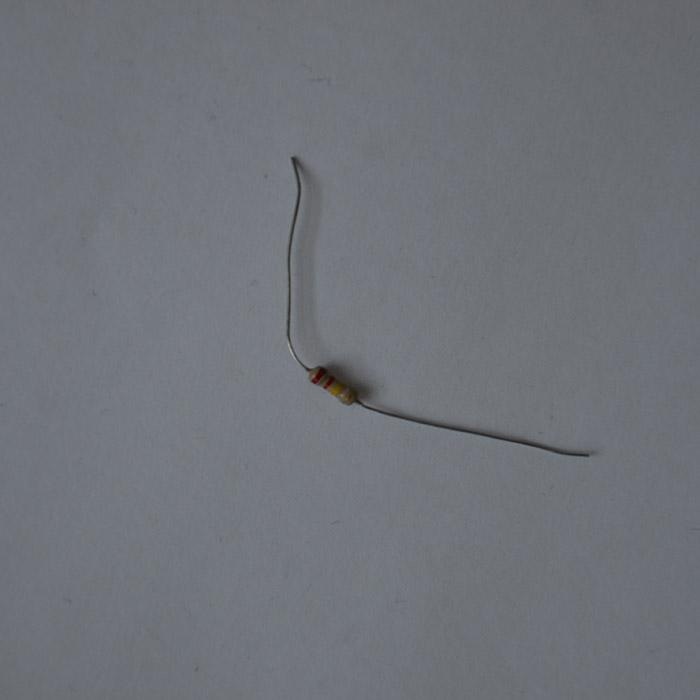resistor: (307, 364, 355, 406)
